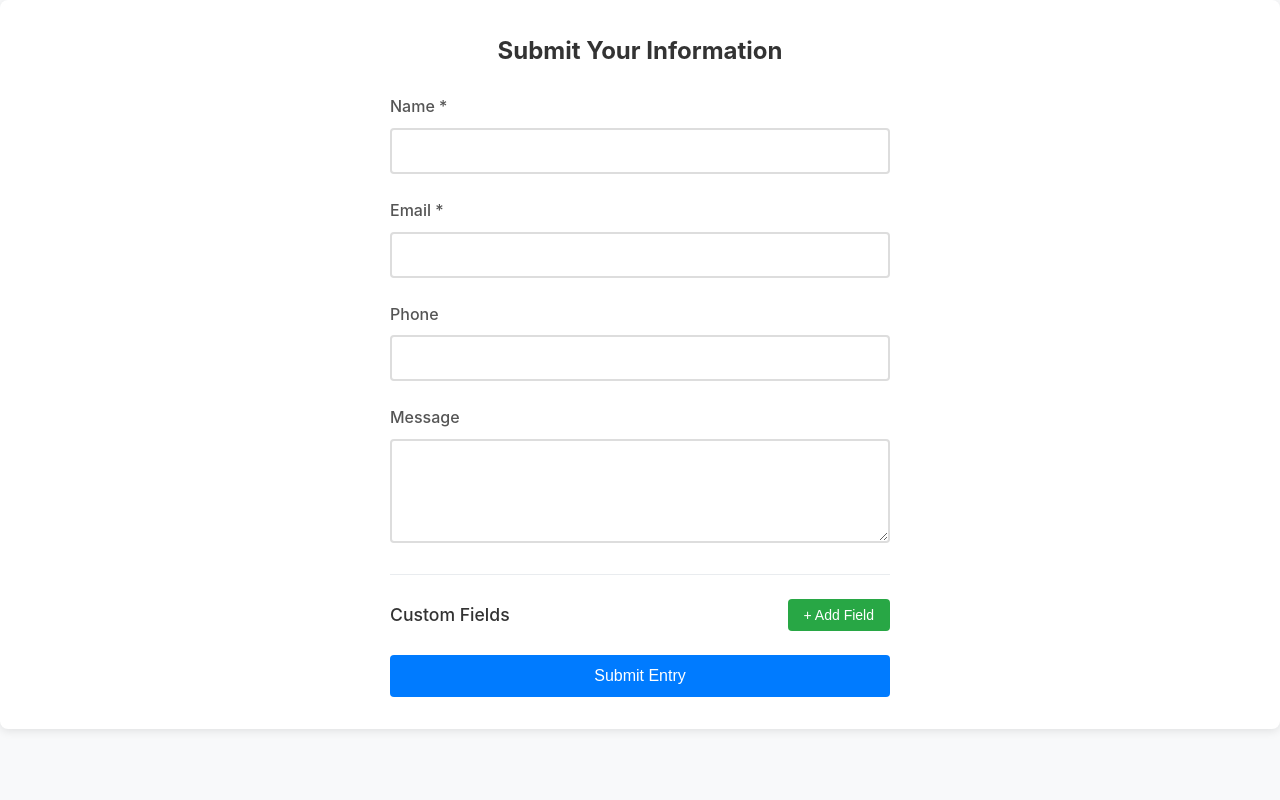
EntryForm › clears field error when user starts typing
The image size is (1280, 800).
Click the button "Submit Entry". click: {"x": 640, "y": 676}
box: [390,655,890,697]
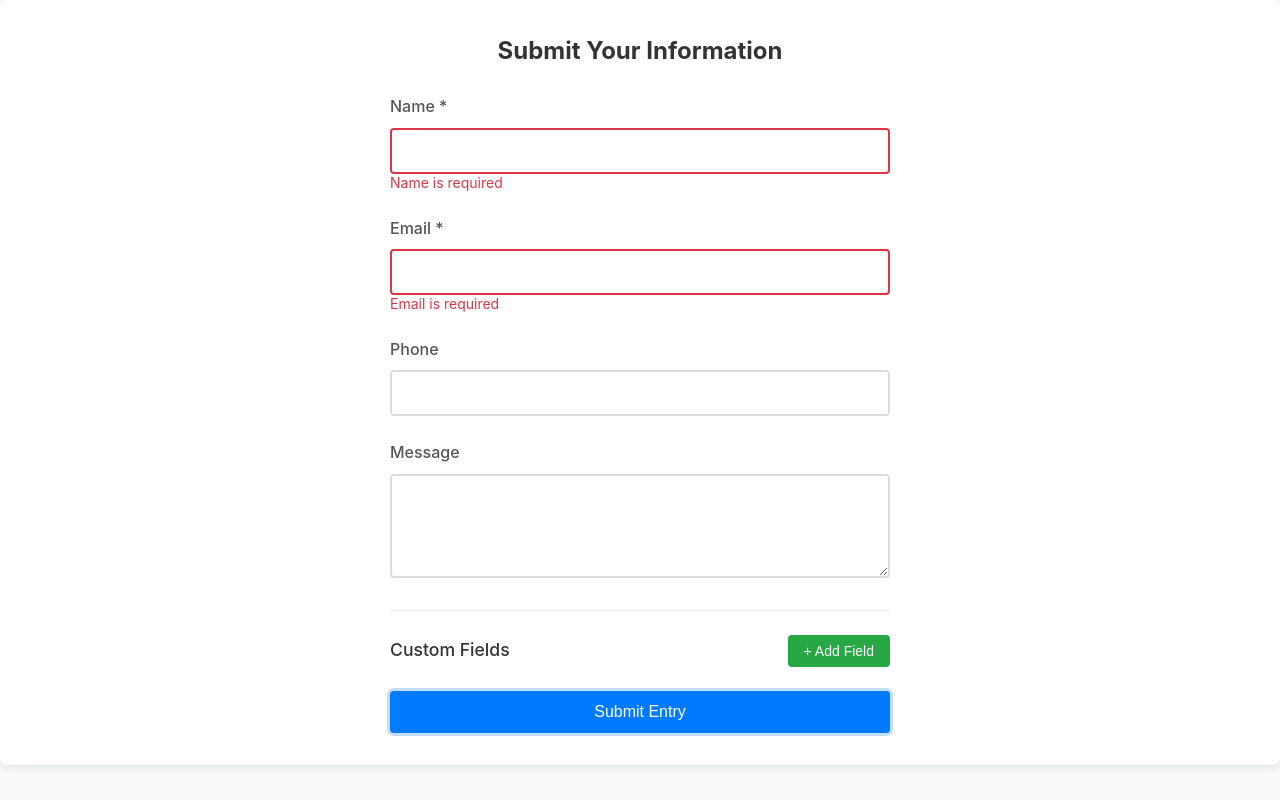
Result: the text "Name is required" is shown at [390,174,503,191]
Type "J" into the field labelled "Name *". click: {"x": 640, "y": 151}
box: [390,128,890,174]
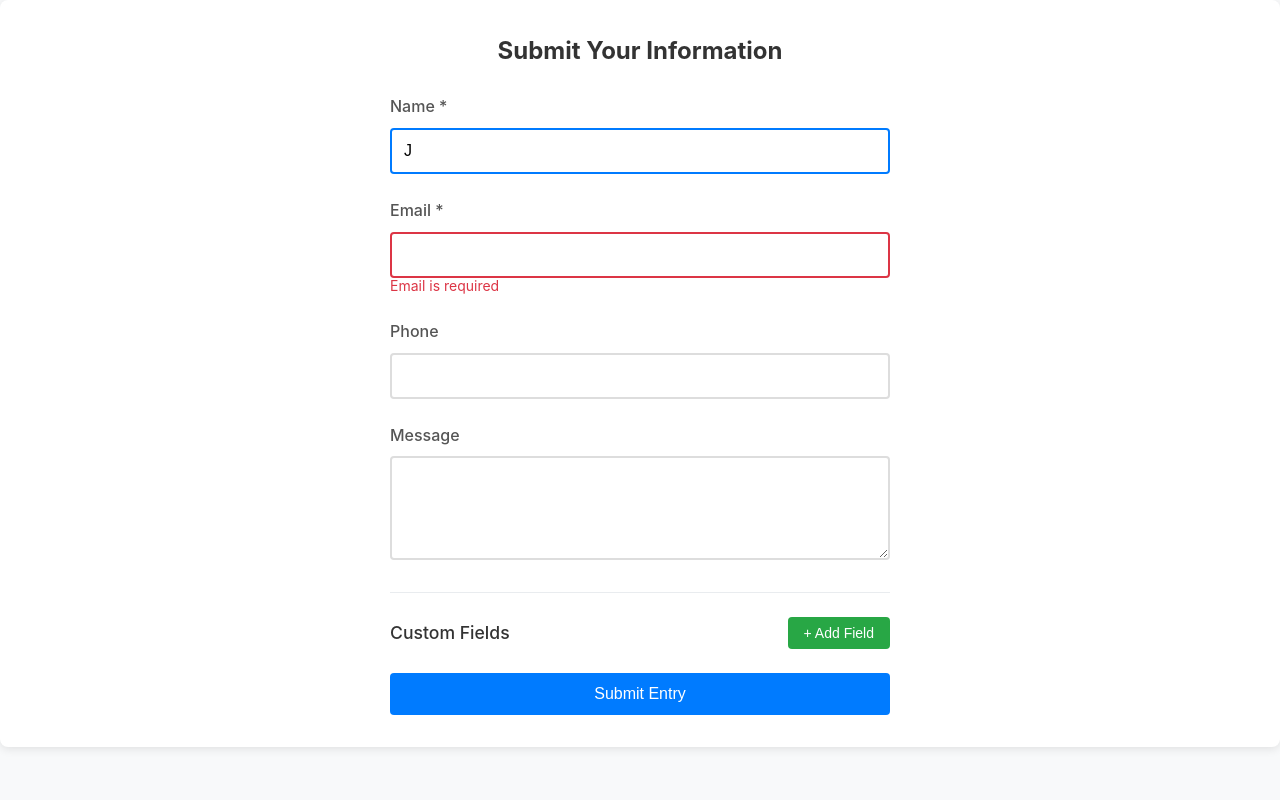
Result: the text "Name is required" is gone
